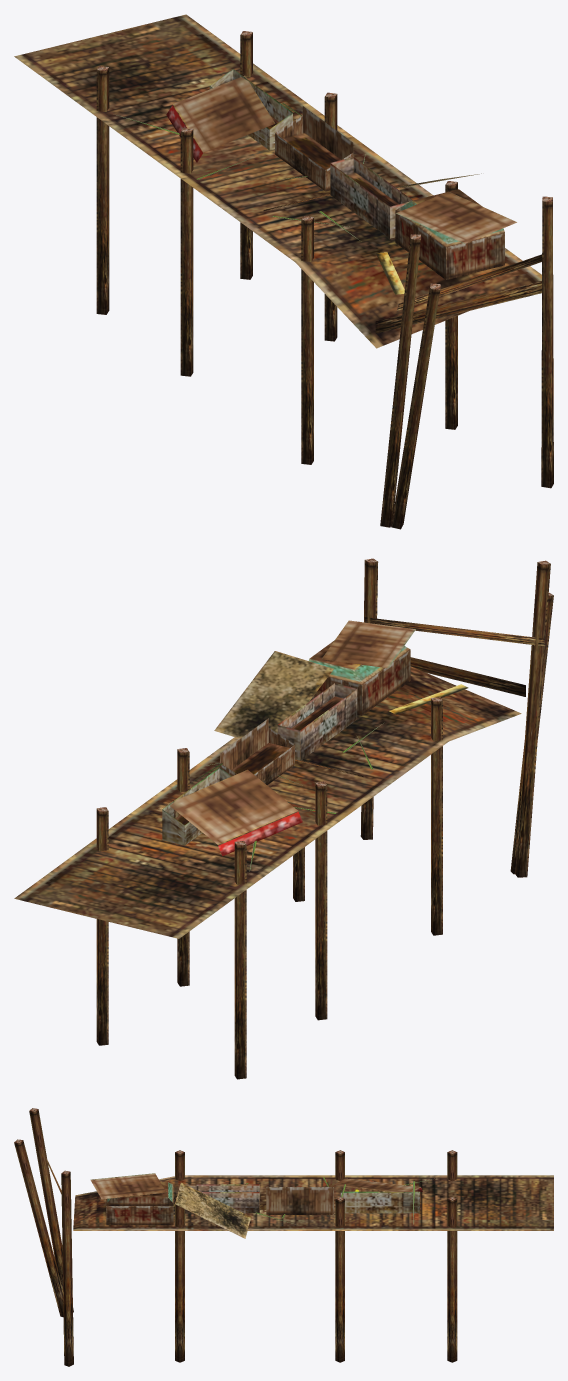
Rendered from Civilian - Civilian Building - Boat Docks 02 - Damaged and Night - CBNBoatDo2_dn.glb.
3 renders of one model, top to bottom at view 1: azimuth 30°, elevation 25°; view 2: azimuth 150°, elevation 25°; view 3: azimuth 270°, elevation 25°, orthographic. The views are drawn at different scales.
Visible parts, largest first — view 1: CBNBOATDO2_DN; view 2: CBNBOATDO2_DN; view 3: CBNBOATDO2_DN.
Boxes of the visible parts, x1,y1,x2,y2 form: CBNBOATDO2_DN: [14, 14, 553, 529]; CBNBOATDO2_DN: [14, 558, 553, 1079]; CBNBOATDO2_DN: [14, 1108, 553, 1366].
Bounding box in the file's own units: 26.87 × 40.55 × 96.65.
1 material, 1 textured.
